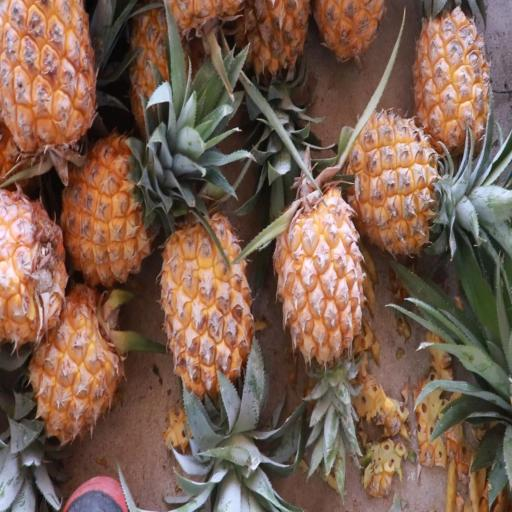Pineapple - v8 v1: (272, 172, 370, 376), (156, 206, 254, 409), (342, 100, 454, 264), (24, 279, 128, 448), (0, 2, 98, 162), (60, 126, 155, 290), (412, 5, 494, 165)
